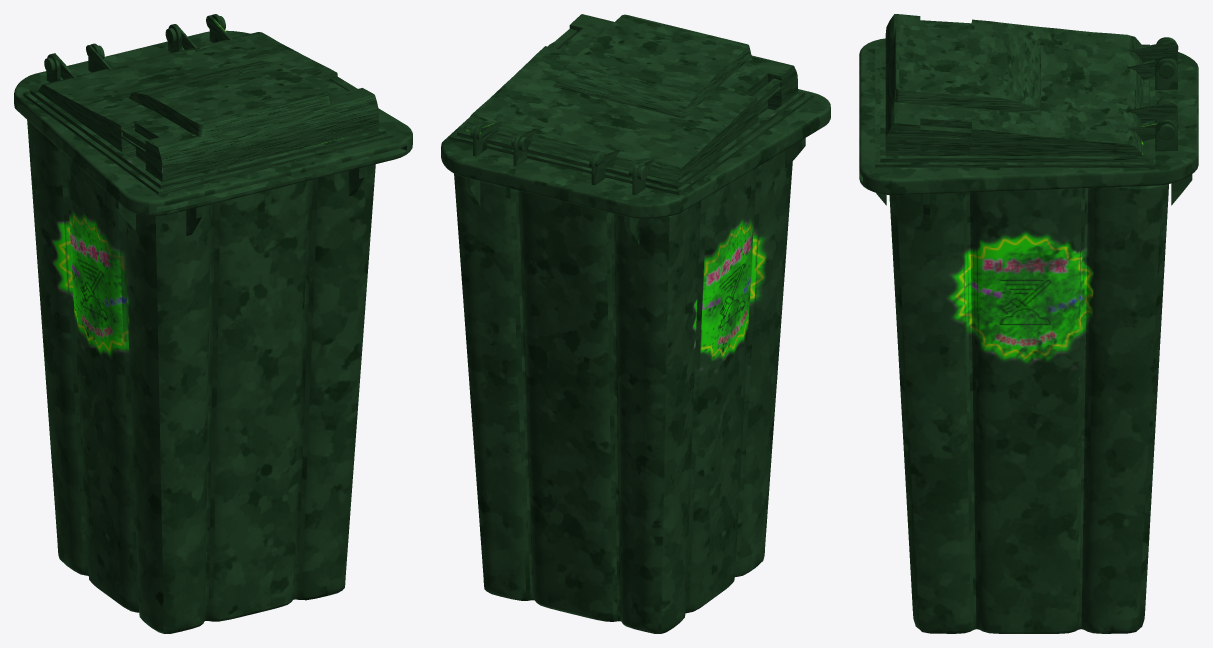
File: trash can.fbx
The picture shows the model from 3 angles, left to right: view 1: azimuth 30°, elevation 25°; view 2: azimuth 150°, elevation 25°; view 3: azimuth 270°, elevation 25°; orthographic projection. The views are drawn at different scales.
Visible parts, largest first — view 1: 桶子, 蓋子; view 2: 桶子, 蓋子; view 3: 桶子, 蓋子.
Boxes of the visible parts, x1,y1,x2,y2 form: 桶子: [14, 14, 412, 633]; 蓋子: [23, 15, 393, 194]; 桶子: [441, 42, 830, 633]; 蓋子: [450, 14, 811, 195]; 桶子: [859, 37, 1198, 633]; 蓋子: [875, 14, 1178, 167].
Size of the model in its own units: 300 by 519 by 300.
